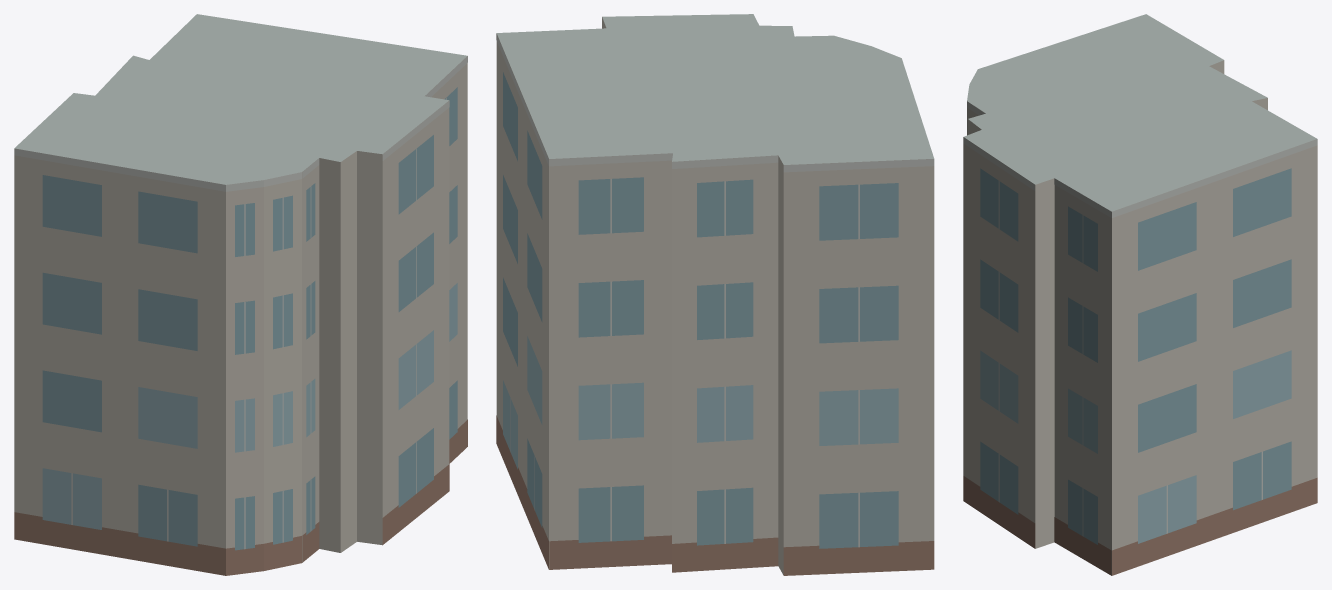
File: survey-upis-32463304.glb
3 views of the same model, side by side, from view 1: azimuth 30°, elevation 25°; view 2: azimuth 150°, elevation 25°; view 3: azimuth 270°, elevation 25° (orthographic). The views are drawn at different scales.
Parts seen in each view (by area): view 1: survey-upis-32463304.tmp; view 2: survey-upis-32463304.tmp; view 3: survey-upis-32463304.tmp.
Boxes of the visible parts, x1,y1,x2,y2 form: survey-upis-32463304.tmp: (14, 14, 467, 575); survey-upis-32463304.tmp: (496, 14, 934, 575); survey-upis-32463304.tmp: (963, 14, 1317, 575).
Bounding box in the file's own units: 15.96 × 13.7 × 12.08.
